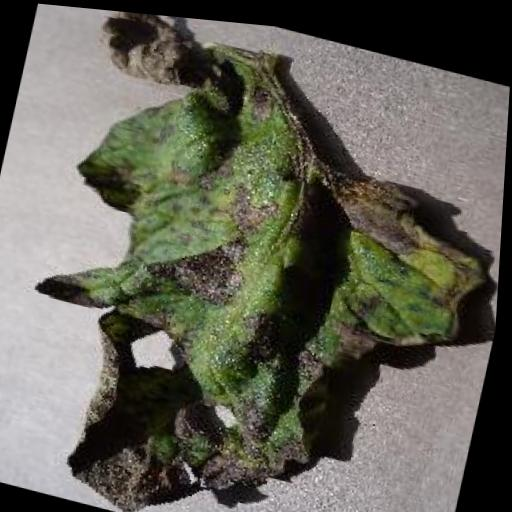Early Blight: (0, 2, 512, 512)
